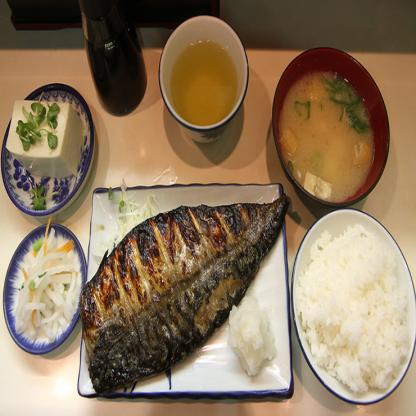Peixe: (80, 185, 292, 396)
